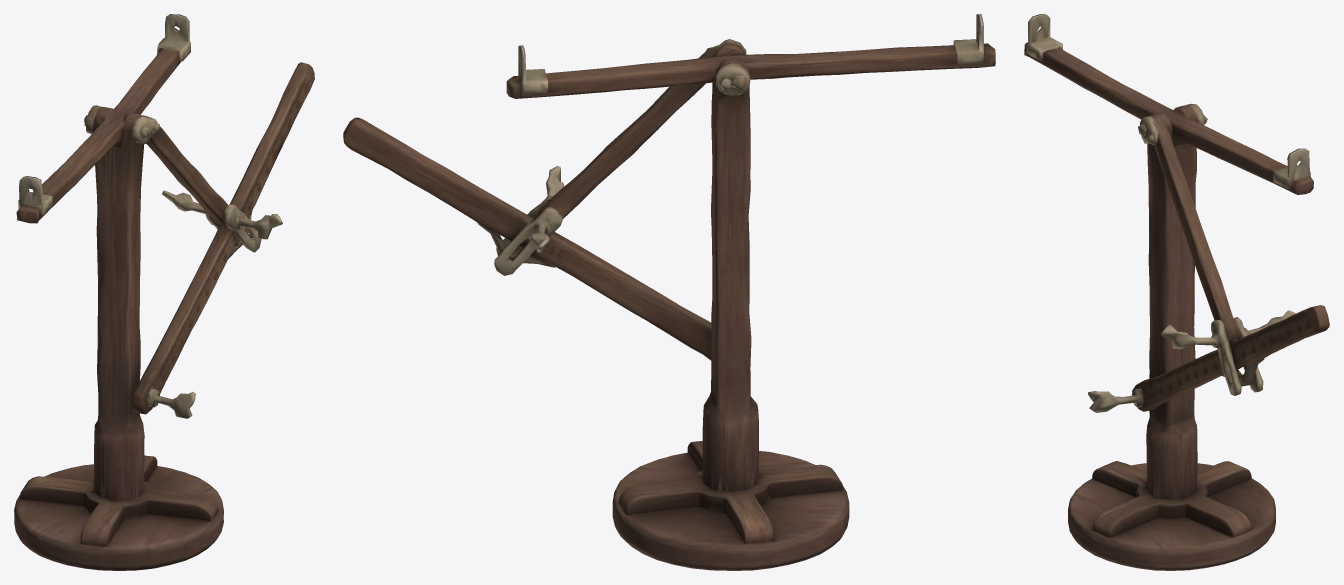
File: triquetrum.glb
The picture shows the model from 3 angles, left to right: view 1: azimuth 30°, elevation 25°; view 2: azimuth 150°, elevation 25°; view 3: azimuth 270°, elevation 25°; orthographic projection. The views are drawn at different scales.
Visible parts, largest first — view 1: tripo_node_79b18fb6-2f29-436c-baac-149fa1afaf6d; view 2: tripo_node_79b18fb6-2f29-436c-baac-149fa1afaf6d; view 3: tripo_node_79b18fb6-2f29-436c-baac-149fa1afaf6d.
Part boxes in pixels (bbox=[...]): tripo_node_79b18fb6-2f29-436c-baac-149fa1afaf6d: bbox=[14, 14, 314, 570]; tripo_node_79b18fb6-2f29-436c-baac-149fa1afaf6d: bbox=[343, 14, 995, 570]; tripo_node_79b18fb6-2f29-436c-baac-149fa1afaf6d: bbox=[1024, 14, 1329, 570].
Size of the model in its own units: 0.9804 by 0.9362 by 0.5929.
1 material, 1 textured.
